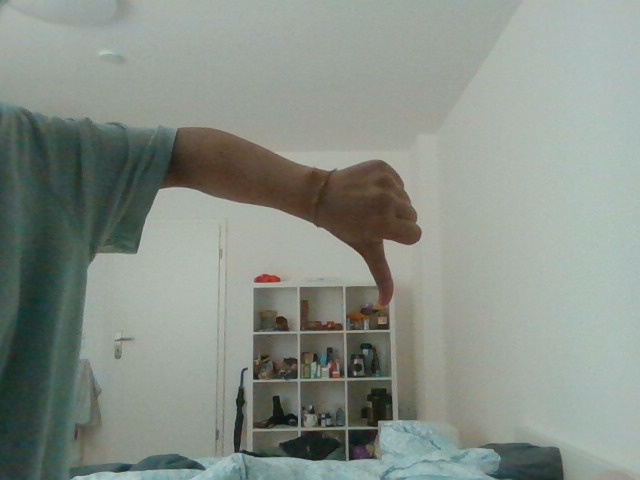thumbs_down: (320, 156, 442, 311)
